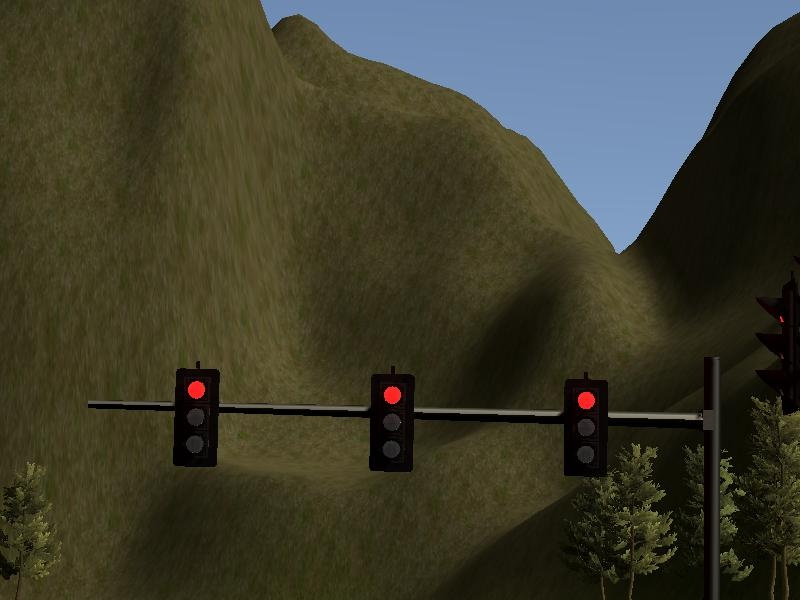Red: (560, 372, 619, 484), (173, 356, 216, 471), (372, 372, 417, 478)
